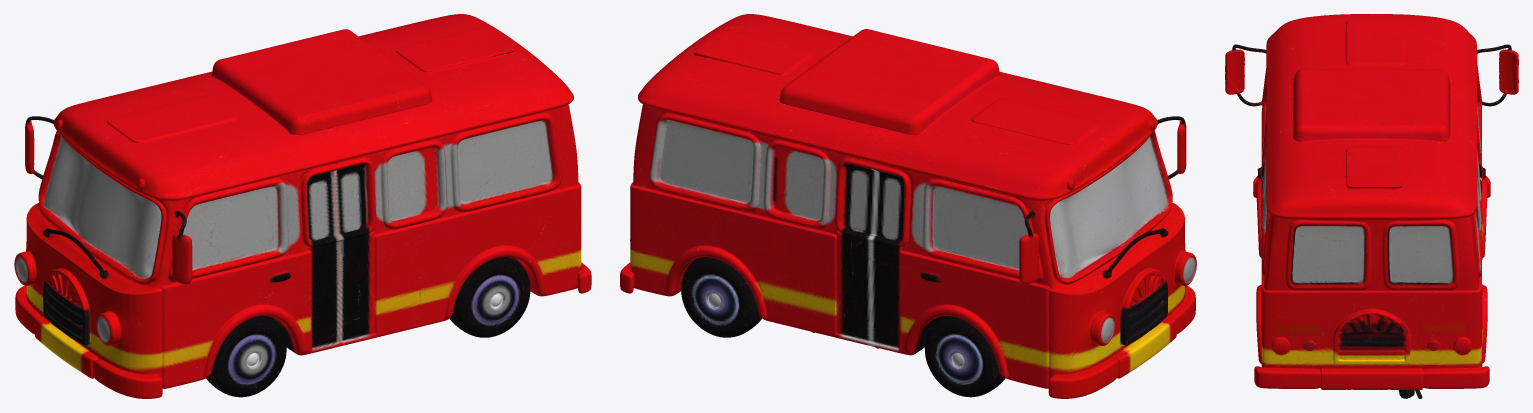
Rendered from mv_minibus.glb.
3 views of the same model, side by side, from view 1: azimuth 30°, elevation 25°; view 2: azimuth 150°, elevation 25°; view 3: azimuth 270°, elevation 25° (orthographic). The views are drawn at different scales.
Bounding box in the file's own units: 1.9 × 0.9605 × 1.13.
Materials: 1 (1 with a texture image).
